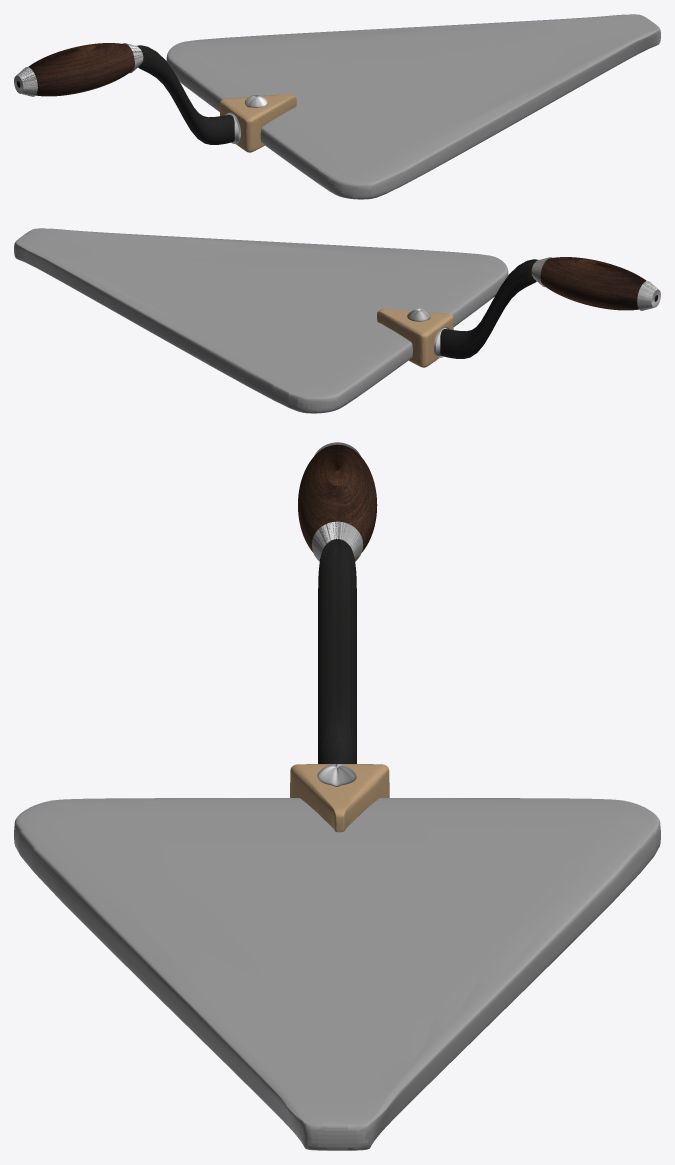
The model's file is Trowel.fbx.
3 renders of one model, top to bottom at view 1: azimuth 30°, elevation 25°; view 2: azimuth 150°, elevation 25°; view 3: azimuth 270°, elevation 25°, orthographic. The views are drawn at different scales.
Visible parts, largest first — view 1: Cylinder.001_Material.003_0; view 2: Cylinder.001_Material.003_0; view 3: Cylinder.001_Material.003_0.
Part boxes in pixels (x1,y1,x2,y2): Cylinder.001_Material.003_0: (14,14,660,199); Cylinder.001_Material.003_0: (14,228,660,413); Cylinder.001_Material.003_0: (14,442,660,1150).
Size of the model in its own units: 314 by 62.94 by 165.
5 materials, 5 textured.
